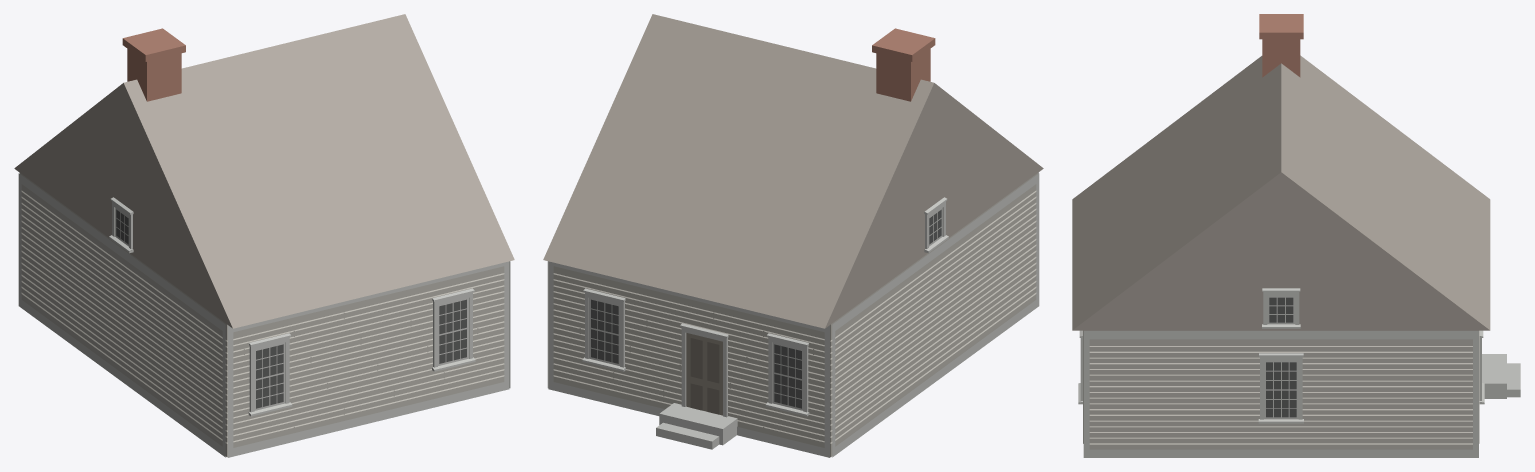
Rendered from recon_1835_blk_randolph_franklin_d6_01__inferred_1835.glb.
3 renders of one model, left to right at view 1: azimuth 30°, elevation 25°; view 2: azimuth 150°, elevation 25°; view 3: azimuth 270°, elevation 25°, orthographic. The views are drawn at different scales.
Parts seen in each view (by area): view 1: recon_1835_blk_randolph_franklin_d6_01__inferred_1835; view 2: recon_1835_blk_randolph_franklin_d6_01__inferred_1835; view 3: recon_1835_blk_randolph_franklin_d6_01__inferred_1835.
Part boxes in pixels (x1,y1,x2,y2): recon_1835_blk_randolph_franklin_d6_01__inferred_1835: [14, 14, 514, 457]; recon_1835_blk_randolph_franklin_d6_01__inferred_1835: [543, 14, 1043, 457]; recon_1835_blk_randolph_franklin_d6_01__inferred_1835: [1072, 14, 1520, 457].
Bounding box in the file's own units: 7.1 × 7.74 × 9.92.
